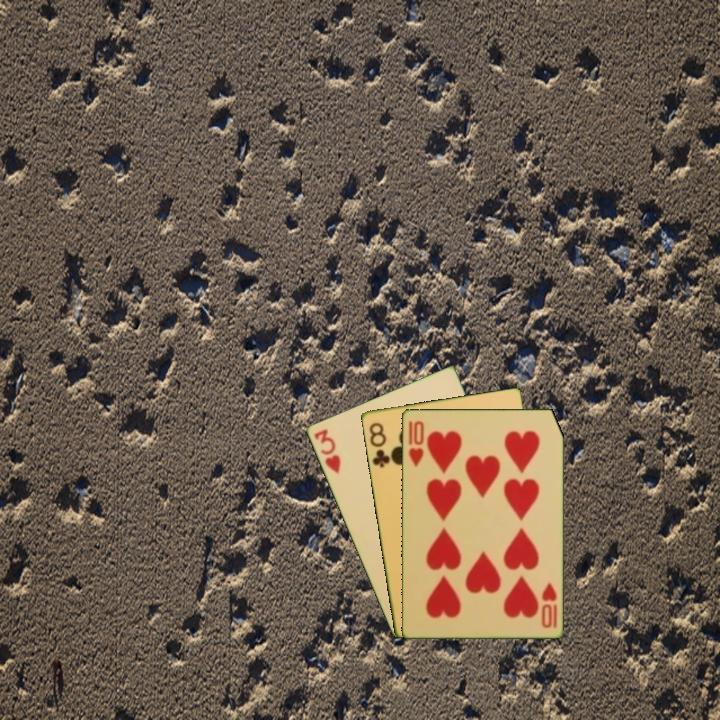10h: (405, 417, 426, 469), (538, 579, 559, 631)
3h: (310, 425, 343, 476)
8c: (365, 419, 392, 470)
